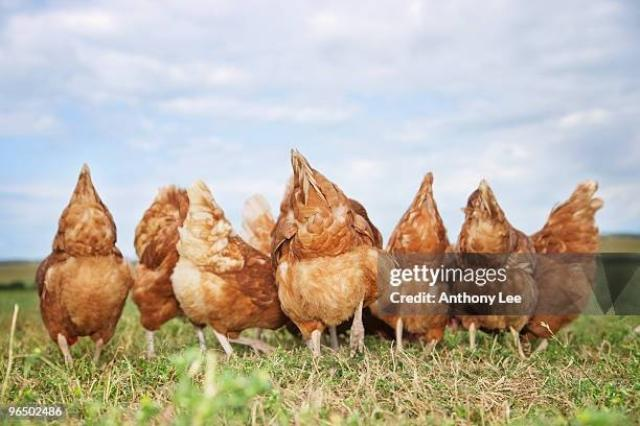Chicken: (275, 151, 384, 356), (173, 180, 286, 362), (37, 163, 134, 372), (449, 176, 537, 360), (370, 172, 456, 355), (131, 183, 209, 358), (529, 179, 604, 343), (239, 190, 278, 257)
